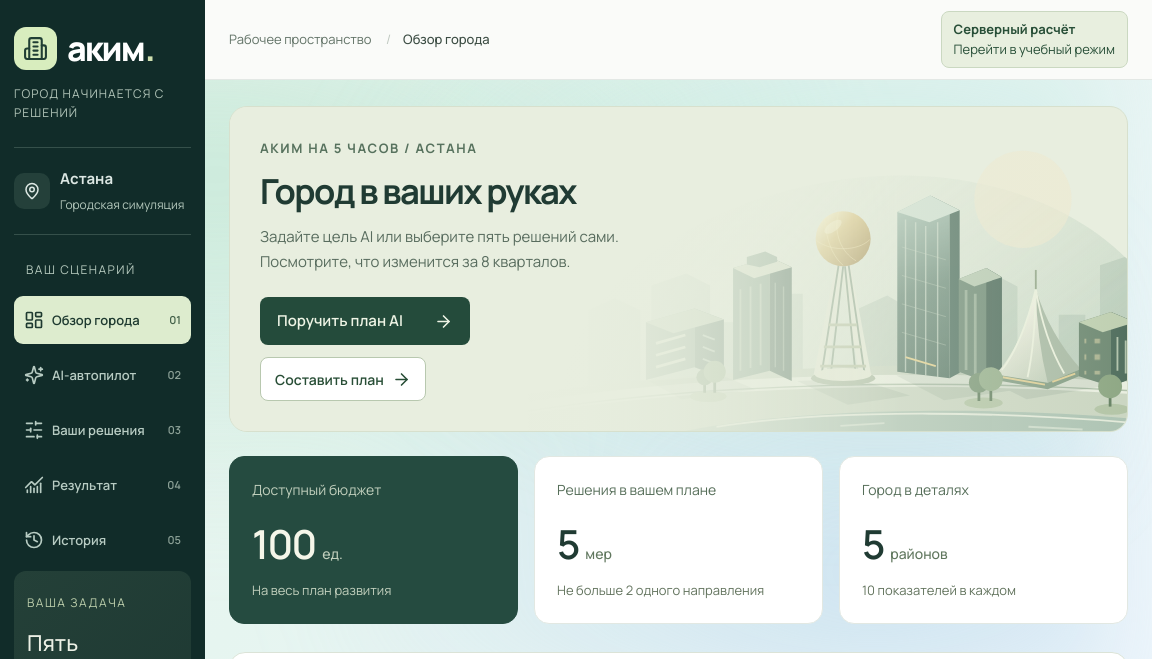
it: creates and saves a reviewed result from one goal without selecting decisions or requesting explain
Expected: the heading "Город в ваших руках" is shown, [260,171,619,212]
Click the button "Поручить план AI" at (365, 321), box [260,297,470,345]
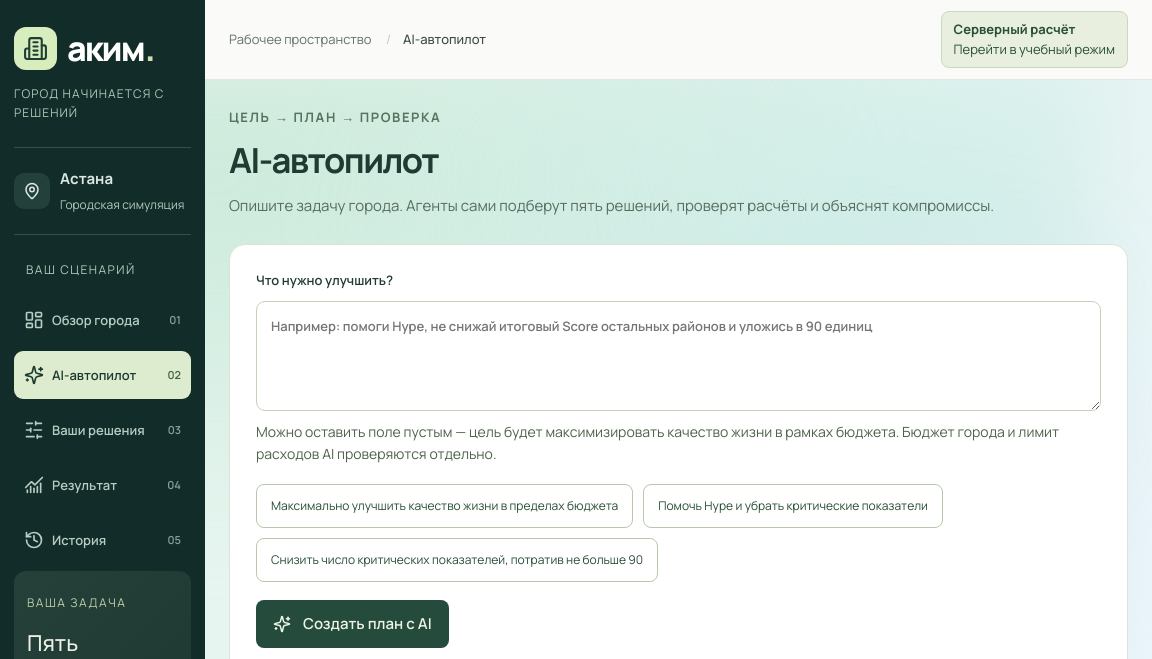
Replace the text in the text box labelled "Что нужно улучшить?" with "Помочь Нуре" at (678, 356), box [256,301,1101,411]
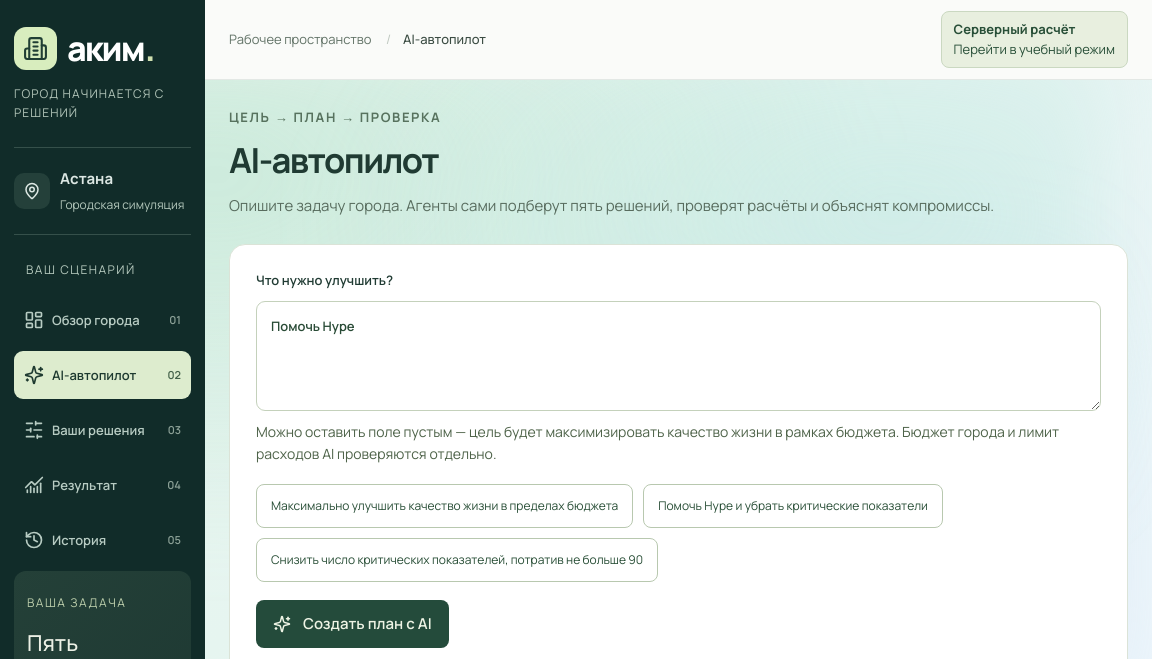
Click the button "Создать план с AI" at (352, 624), box [256,600,449,648]
(page scrolled)
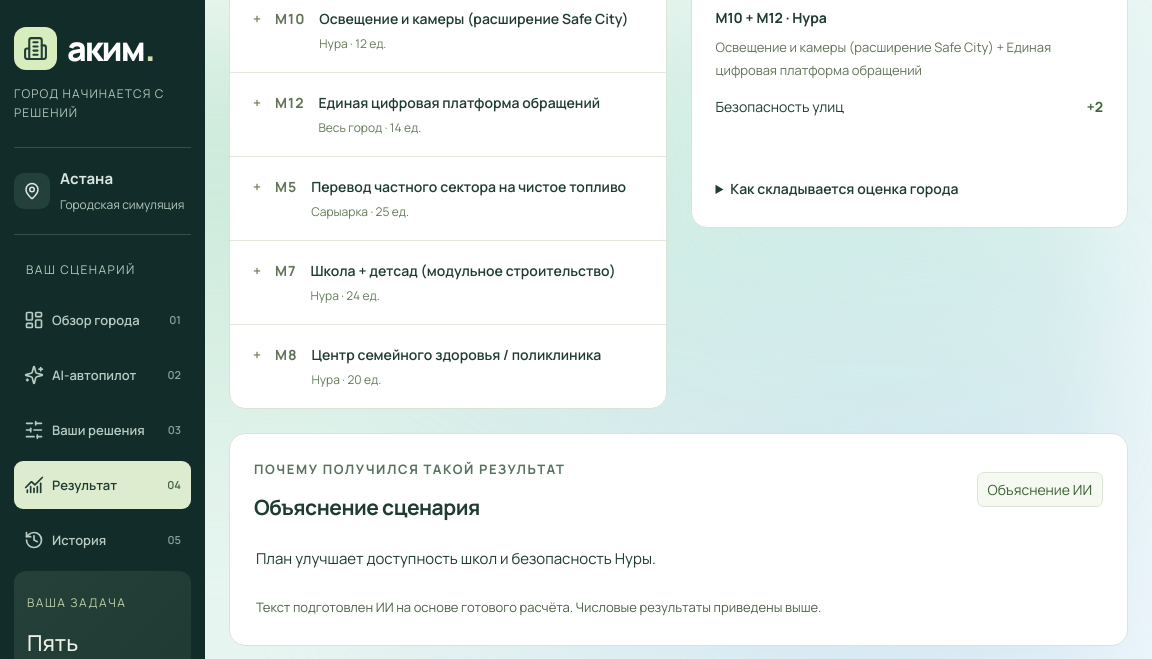
Now the text "План улучшает доступность школ и безопасность Нуры." is shown, box [256,548,656,569]
